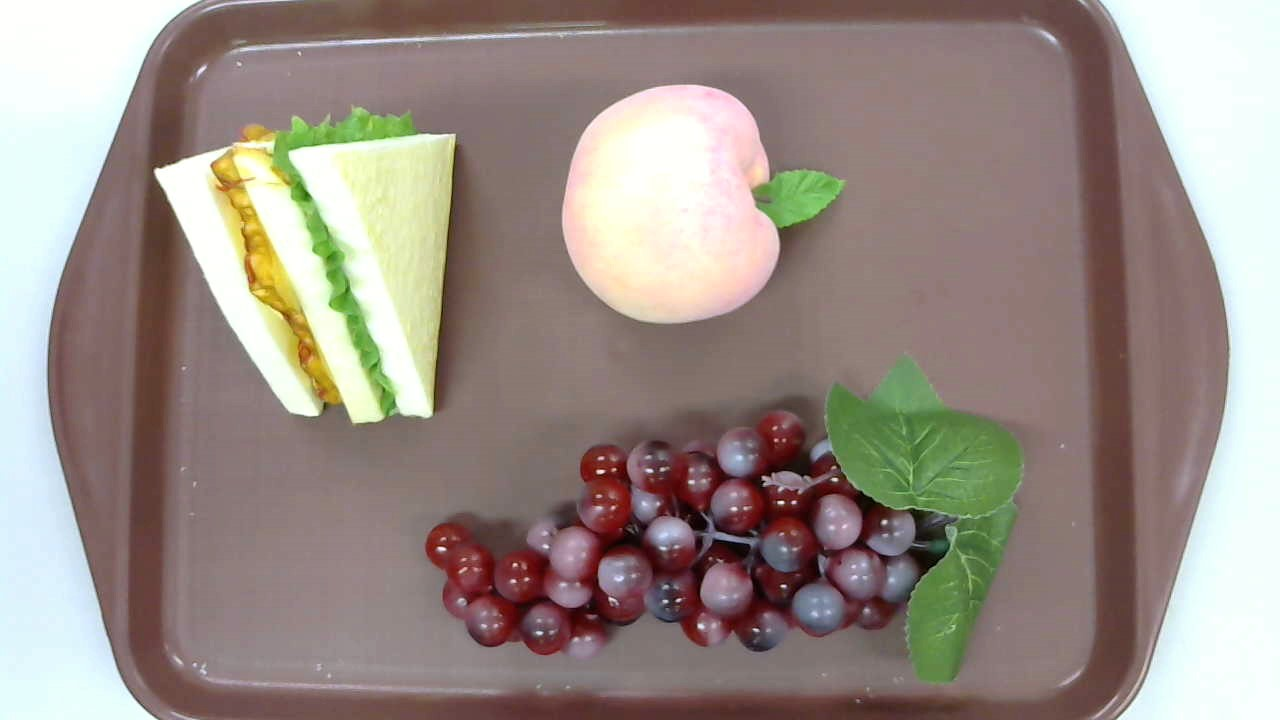grape: (425, 350, 1024, 687)
peach: (561, 84, 845, 327)
sandwich: (155, 104, 458, 427)
